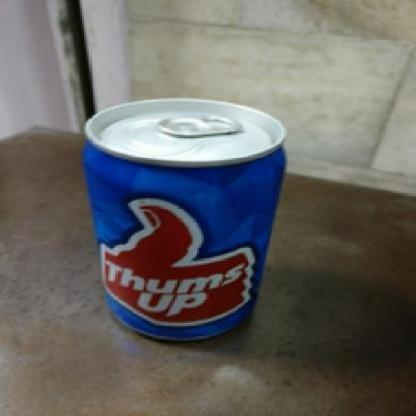Can: (80, 91, 298, 359)
